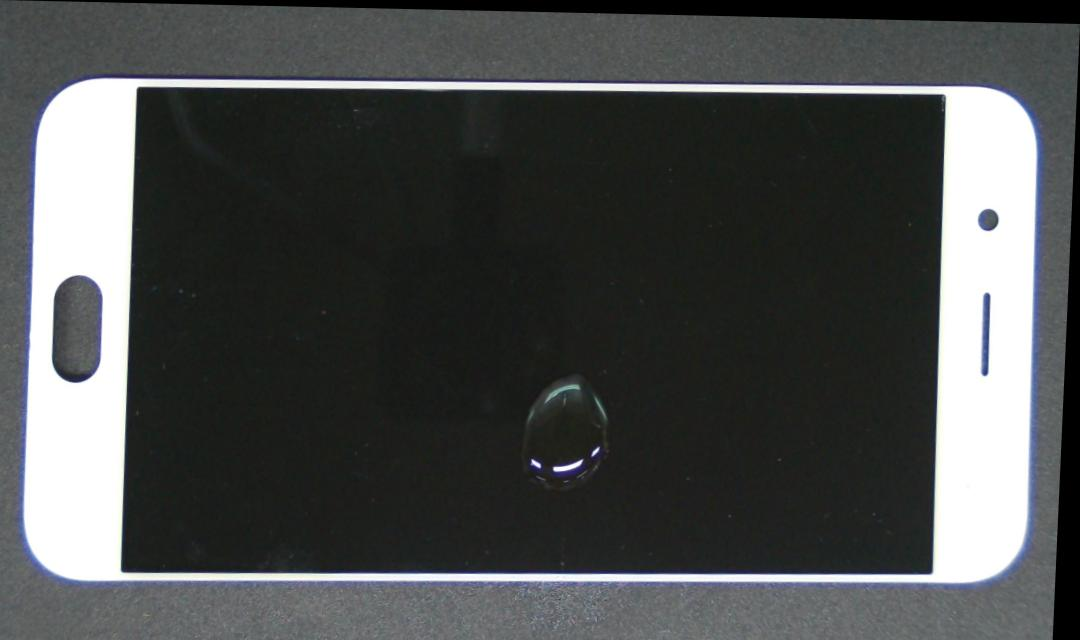oil: (508, 338, 639, 530)
